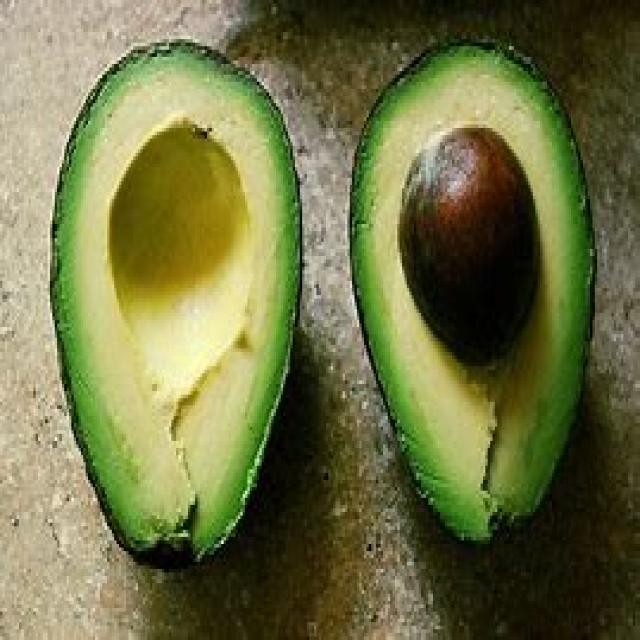avocado: (51, 37, 304, 573), (332, 33, 582, 545)
